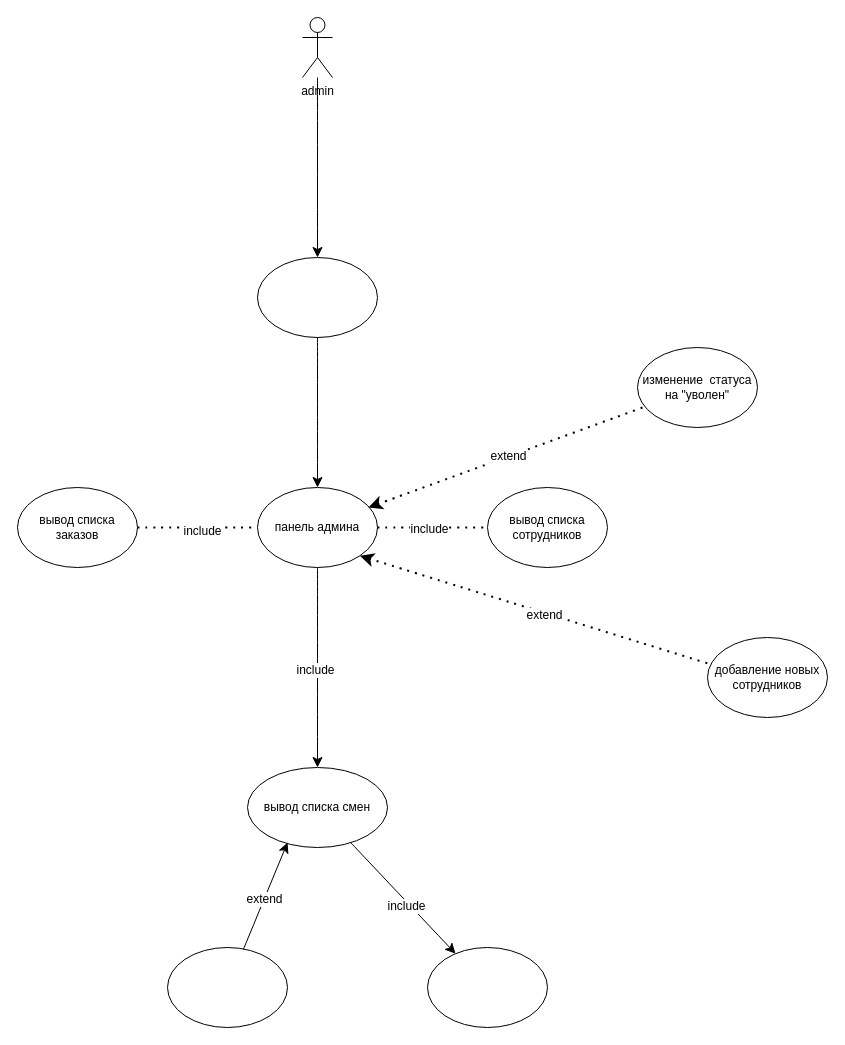
This 845x1045 diagram has some shape labels left out. The centre of each missing label's shape, as x and y in pixels:
авторизация: point (317, 297)
вывод информации о сотрудниках работающих в данной смене: point (487, 987)
создание новых смен: point (227, 987)
